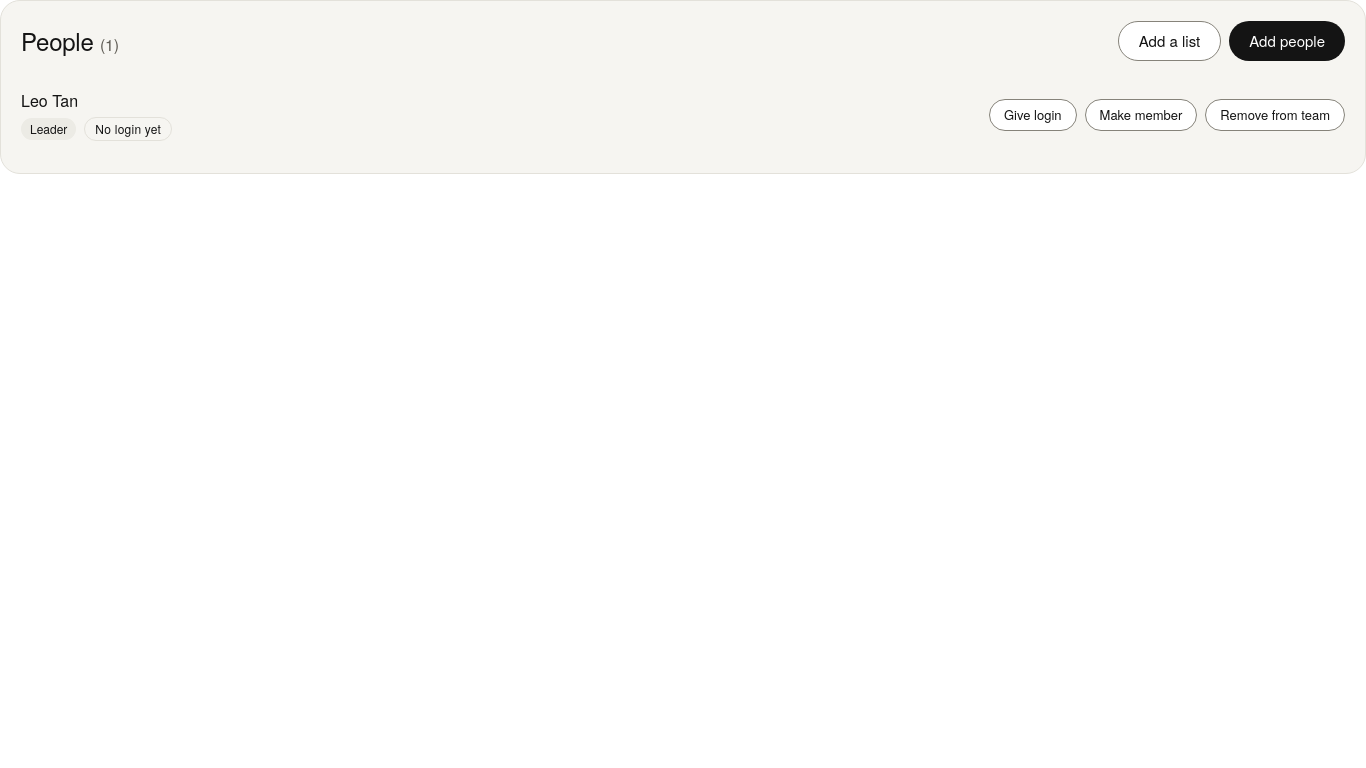
Test: PeopleSection › warns, when making a leader a member, which extra leads they lose
Click the button "Make member" at (1141, 115), box [1084, 99, 1197, 131]
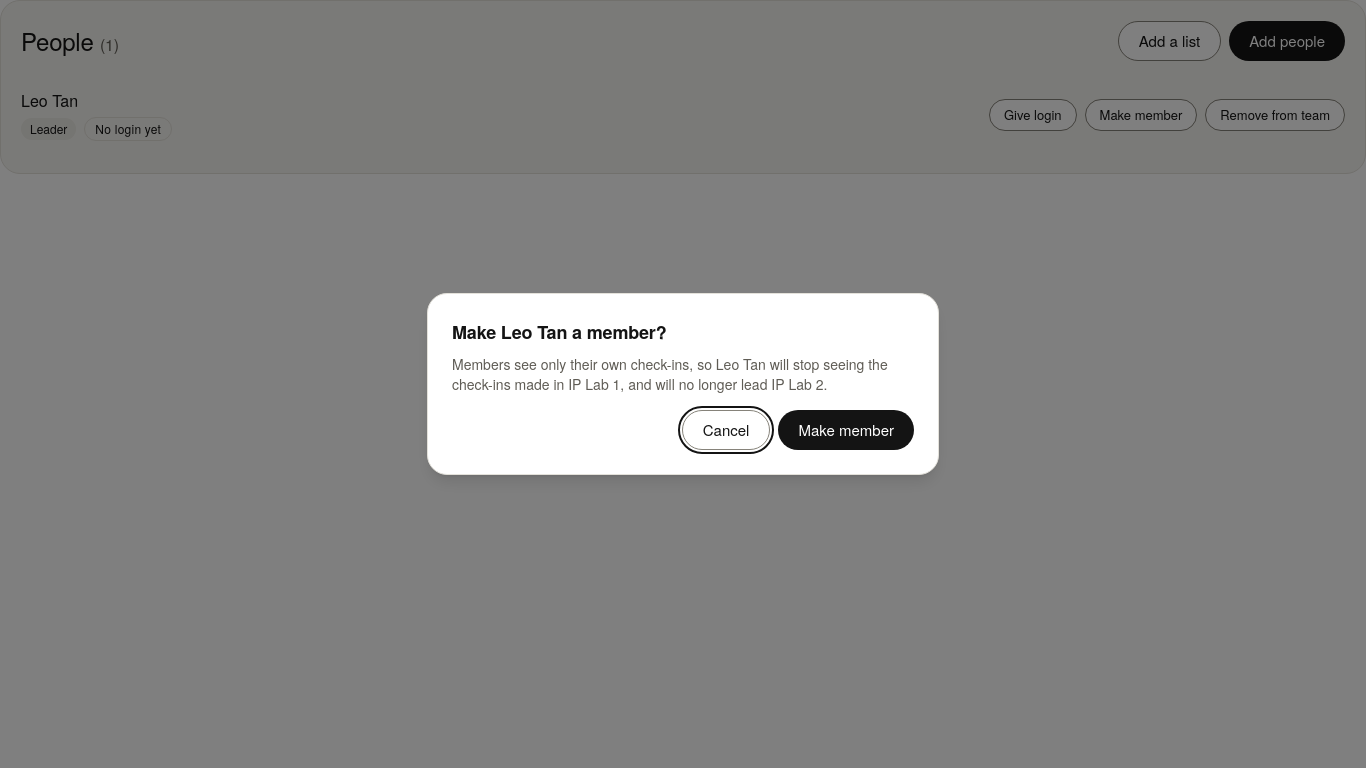
Expected: the dialog shows "and will no longer lead IP Lab 2.", [452, 354, 888, 394]
